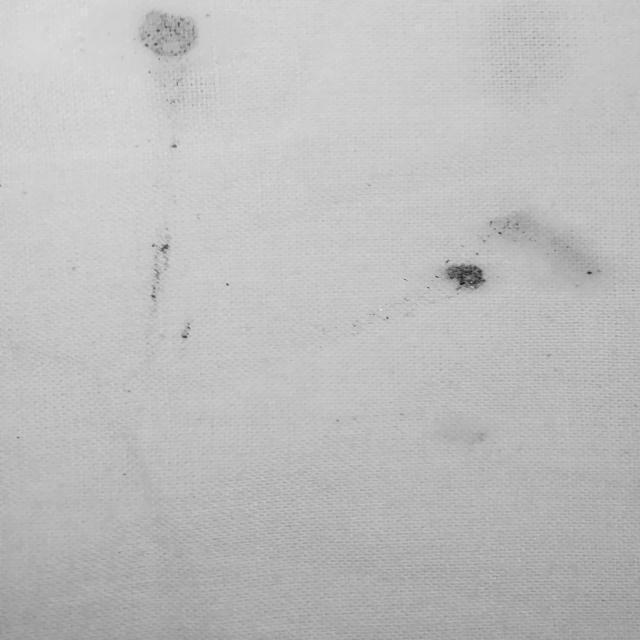Hole: (33, 198, 328, 436), (376, 189, 622, 334), (106, 0, 222, 170)
